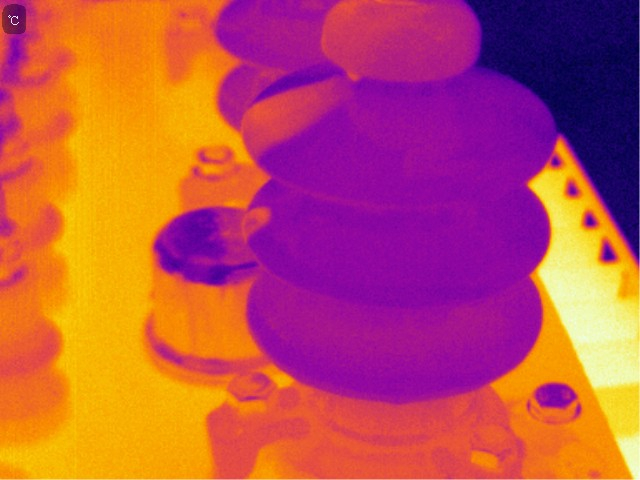Oil: (315, 1, 478, 82), (247, 81, 338, 175), (234, 204, 272, 243)
